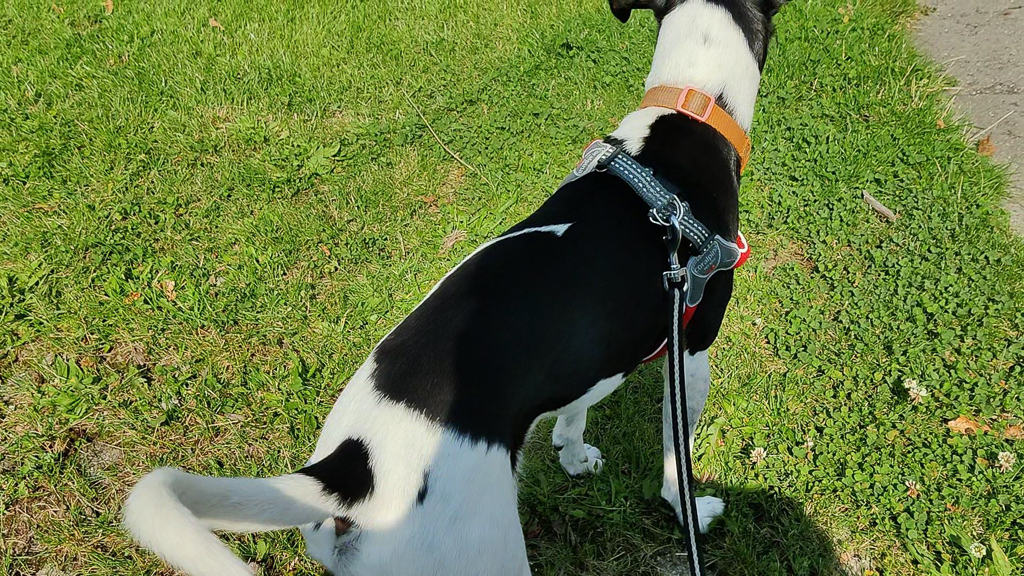Dog: (104, 0, 796, 576)
